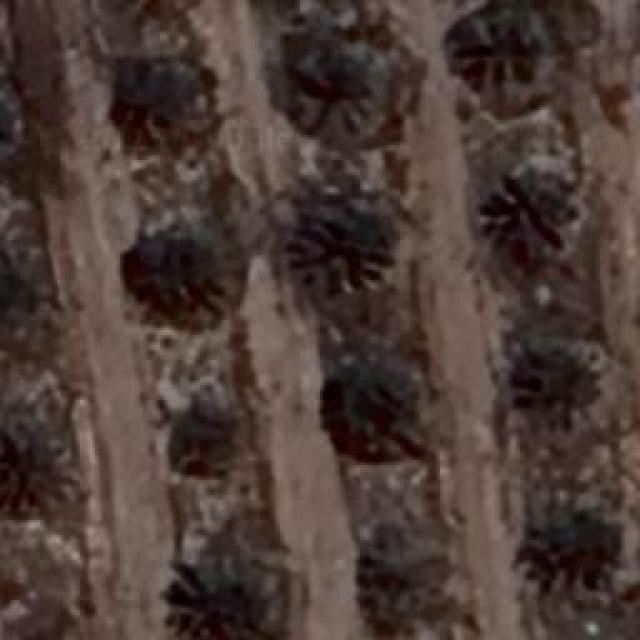PalmTree: (352, 530, 466, 640), (318, 340, 422, 455), (28, 78, 55, 469), (134, 226, 236, 329), (285, 37, 385, 135), (455, 18, 563, 104), (538, 514, 622, 604), (118, 60, 212, 140), (308, 200, 390, 282), (174, 568, 268, 638), (515, 352, 593, 426), (492, 174, 568, 238), (164, 398, 236, 462), (16, 91, 32, 298), (0, 250, 22, 340), (0, 72, 21, 166), (0, 70, 11, 167)
